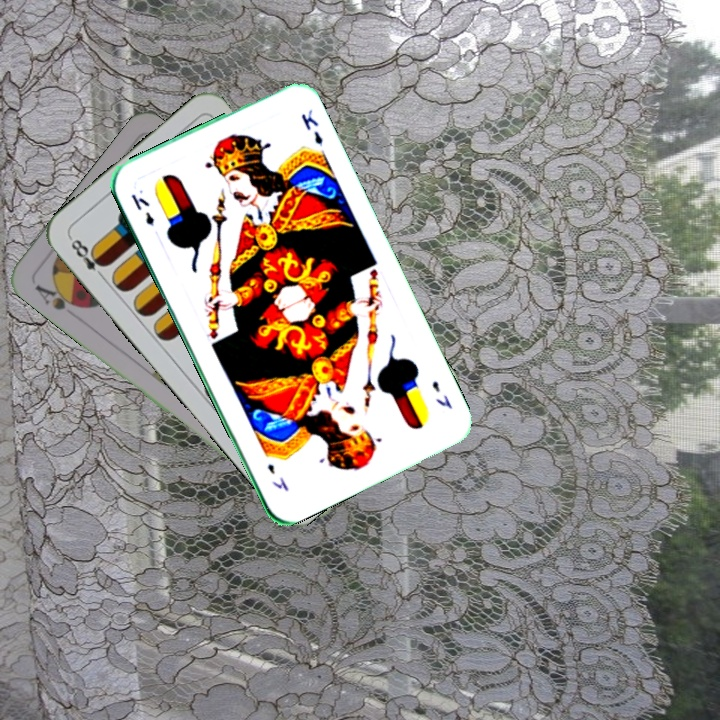E8: (66, 233, 110, 283)
EK: (127, 189, 157, 228), (427, 376, 454, 412)
SA: (30, 278, 87, 313)
